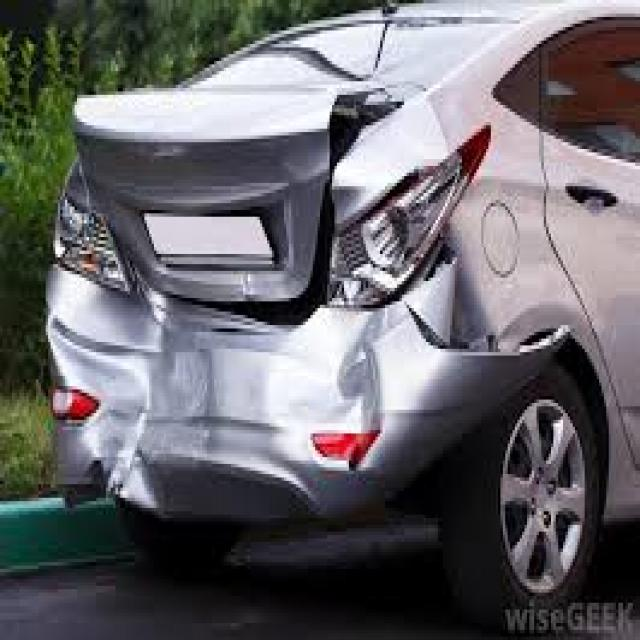moderate: (71, 130, 471, 553)
